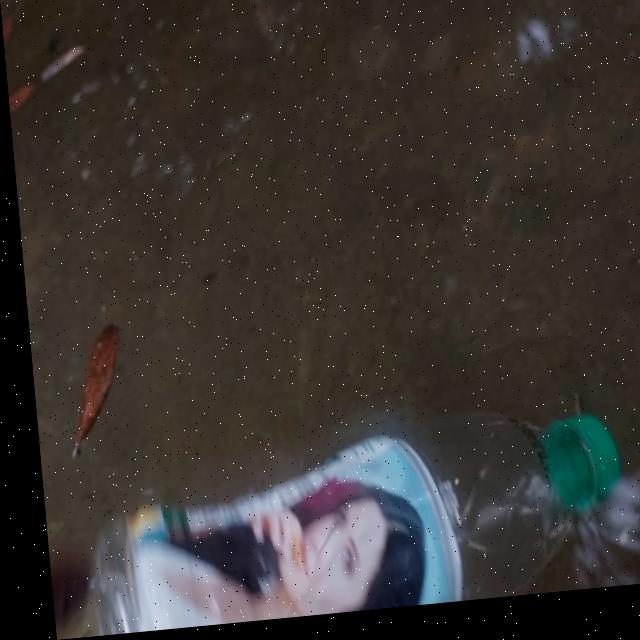leaf: (54, 319, 140, 438), (1, 9, 63, 155)
waterbottle: (51, 415, 610, 638)
